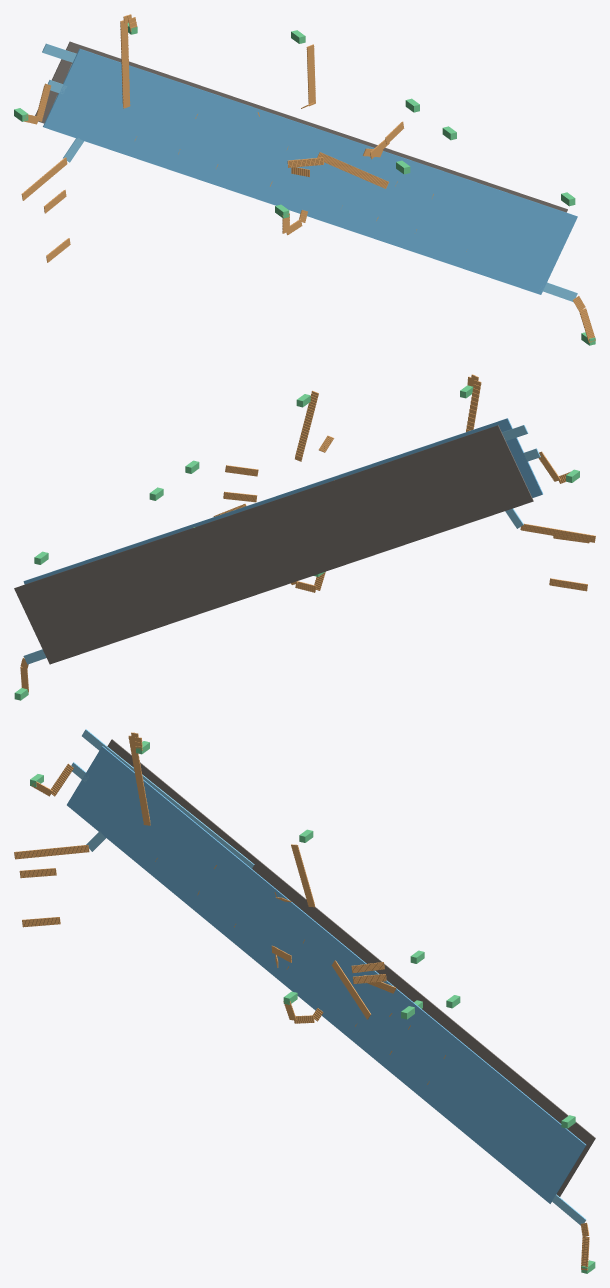
The model's file is jackson-hts-roosevelt-av.glb.
3 views of the same model, one above another, from view 1: azimuth 30°, elevation 25°; view 2: azimuth 150°, elevation 25°; view 3: azimuth 330°, elevation 25° (orthographic). The views are drawn at different scales.
Visible parts, largest first — view 1: Mezzanine (level -1), Trackbed (4 tracks), Stair 6 (level -1 to 0), Stair 3 (level -1 to 1), Stair 1 (level 0 to 1); view 2: Trackbed (4 tracks), Mezzanine (level -1), Stair 24 (level -1 to 1), Stair 1 (level 0 to 1), Stair 6 (level -1 to 0); view 3: Mezzanine (level -1), Trackbed (4 tracks), Passage 1 (level -2), Stair 6 (level -1 to 0).
Boxes of the visible parts, left/top/right/bottom form: Mezzanine (level -1): left=43, top=48, right=577, bottom=294; Trackbed (4 tracks): left=35, top=41, right=567, bottom=212; Stair 6 (level -1 to 0): left=120, top=14, right=137, bottom=108; Stair 3 (level -1 to 1): left=317, top=152, right=388, bottom=188; Stair 1 (level 0 to 1): left=306, top=44, right=315, bottom=106; Trackbed (4 tracks): left=14, top=425, right=533, bottom=664; Mezzanine (level -1): left=23, top=418, right=542, bottom=584; Stair 24 (level -1 to 1): left=520, top=523, right=595, bottom=542; Stair 1 (level 0 to 1): left=295, top=390, right=318, bottom=461; Stair 6 (level -1 to 0): left=466, top=374, right=481, bottom=431; Mezzanine (level -1): left=67, top=746, right=586, bottom=1203; Trackbed (4 tracks): left=107, top=739, right=595, bottom=1196; Passage 1 (level -2): left=82, top=729, right=254, bottom=868; Stair 6 (level -1 to 0): left=128, top=732, right=150, bottom=825.
Size of the model in its own units: 205 by 149 by 21.3.
